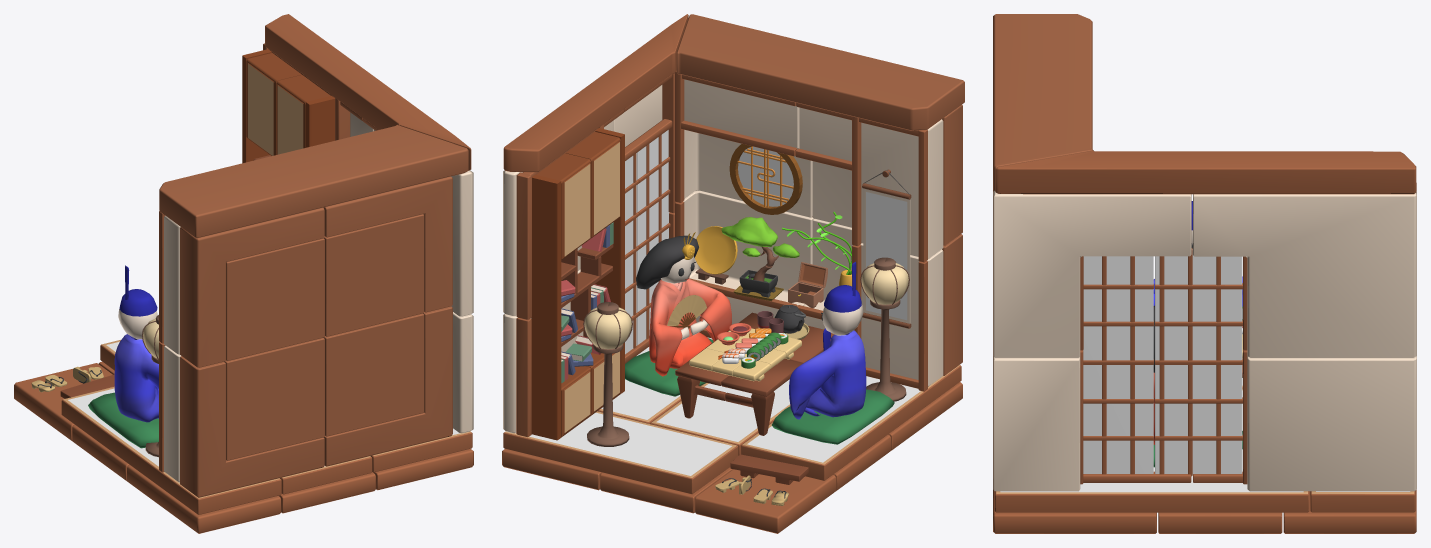
The model's file is Level_P_05.fbx.
The picture shows the model from 3 angles, left to right: view 1: azimuth 30°, elevation 25°; view 2: azimuth 150°, elevation 25°; view 3: azimuth 270°, elevation 25°; orthographic projection. The views are drawn at different scales.
Visible parts, largest first — view 1: Tea_Room_2.001, Tea_Room_43.001, Tea_Room_42.001, Tea_Room_44.001, Tea_Room_41.001, Tea_Room_40.001, Tea_Room_39.001, Tea_Room_1.001, Tea_Room_37.001, Tea_Room_38.001, Tea_Room_51.001, Inner.002 (+19 smaller); view 2: Tea_Room_2.001, Tea_Room_46.001, Tea_Room_45.001, Tea_Room_47.001, Tea_Room_52.001, Tea_Room_1.001, Inner.001, Cube.028, Tea_Room_48.001, Inner.002, Tea_Room_51.001, Tea_Room_61.001 (+39 smaller); view 3: Tea_Room_31.001, Tea_Room_34.001, Tea_Room_32.001, Tea_Room_35.001, Tea_Room_1.001, Tea_Room_36.001, Tea_Room_2.001, Tea_Room_33.001, Tea_Room_49.001, Tea_Room_53.001, Tea_Room_59.001, Tea_Room_58.001 (+1 smaller).
Boxes of the visible parts, x1,y1,x2,y2 form: Tea_Room_2.001: [159, 125, 468, 238]; Tea_Room_43.001: [323, 313, 424, 436]; Tea_Room_42.001: [324, 214, 424, 336]; Tea_Room_44.001: [224, 338, 324, 460]; Tea_Room_41.001: [226, 238, 324, 361]; Tea_Room_40.001: [180, 208, 324, 367]; Tea_Room_39.001: [180, 356, 324, 497]; Tea_Room_1.001: [265, 14, 471, 170]; Tea_Room_37.001: [323, 176, 452, 312]; Tea_Room_38.001: [324, 306, 452, 466]; Tea_Room_51.001: [61, 386, 281, 514]; Inner.002: [114, 265, 158, 422]; Tea_Room_2.001: [676, 14, 964, 130]; Tea_Room_46.001: [795, 102, 943, 262]; Tea_Room_45.001: [675, 71, 812, 217]; Tea_Room_47.001: [797, 219, 943, 391]; Tea_Room_52.001: [503, 411, 738, 494]; Tea_Room_1.001: [503, 14, 688, 172]; Inner.001: [636, 232, 731, 376]; Cube.028: [531, 174, 561, 440]; Tea_Room_48.001: [675, 191, 813, 338]; Inner.002: [789, 261, 866, 419]; Tea_Room_51.001: [741, 365, 961, 480]; Tea_Room_61.001: [695, 469, 836, 533]; Tea_Room_31.001: [1193, 183, 1416, 357]; Tea_Room_34.001: [1193, 350, 1416, 491]; Tea_Room_32.001: [993, 190, 1191, 357]; Tea_Room_35.001: [1154, 248, 1242, 476]; Tea_Room_1.001: [995, 151, 1416, 194]; Tea_Room_36.001: [1083, 256, 1153, 474]; Tea_Room_2.001: [993, 14, 1093, 190]; Tea_Room_33.001: [993, 350, 1191, 491]; Tea_Room_49.001: [994, 449, 1309, 512]; Tea_Room_53.001: [993, 479, 1156, 533]; Tea_Room_59.001: [1283, 490, 1416, 533]; Tea_Room_58.001: [1158, 512, 1282, 533].
Size of the model in its own units: 14.95 by 16.38 by 17.18.
